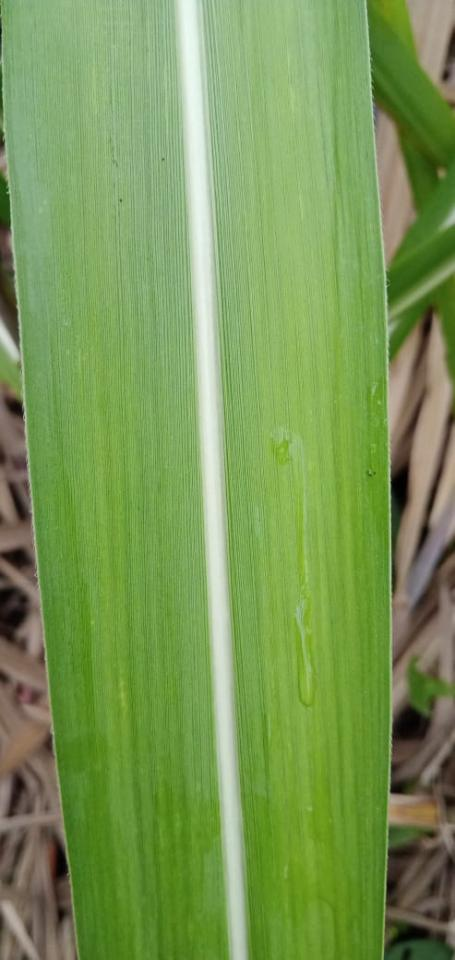Healthy: (4, 0, 390, 959)
